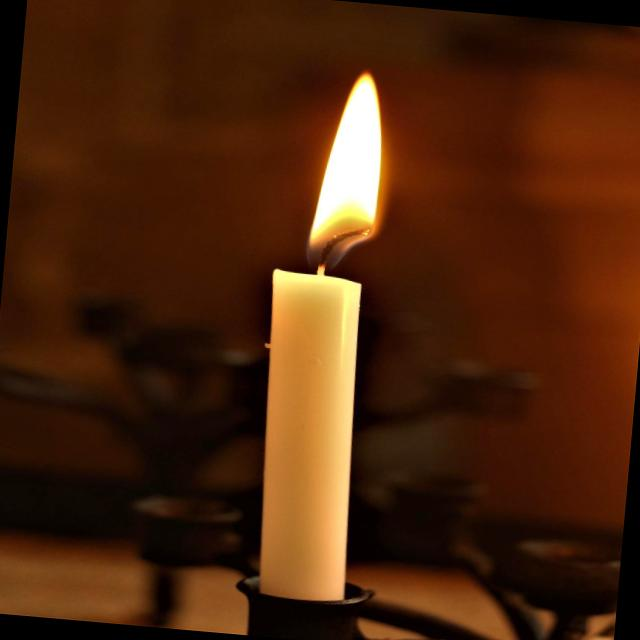Fire_Save: (242, 62, 396, 604), (302, 66, 392, 276)
